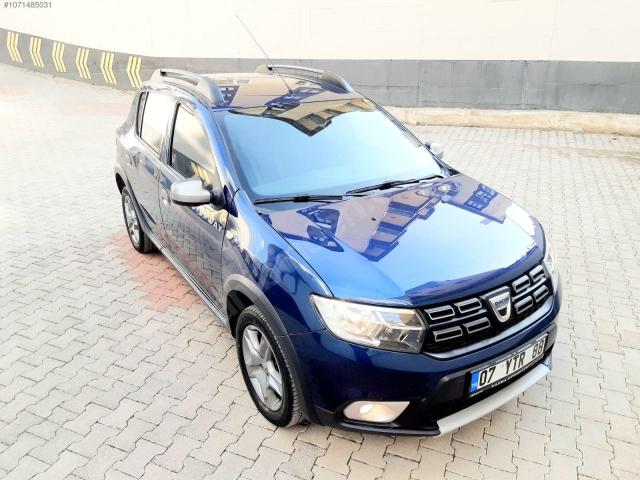plaka: (469, 337, 545, 396)
